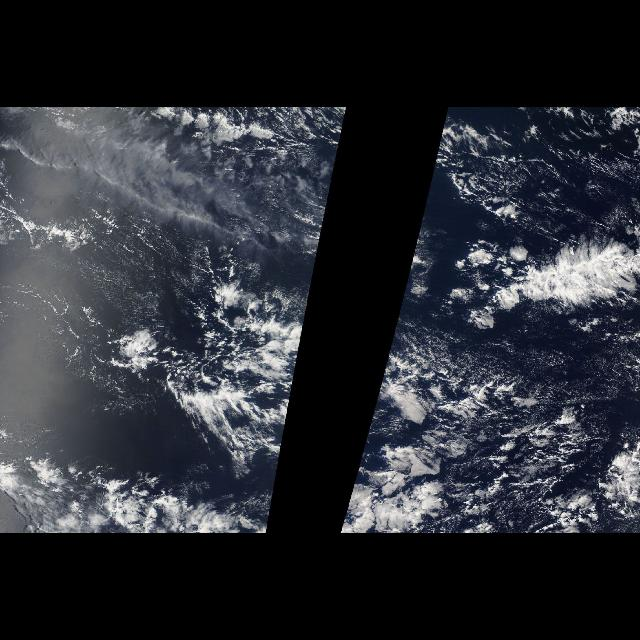Fish: (96, 275, 314, 475), (468, 219, 640, 339)
Gravel: (439, 360, 599, 532)
Sugar: (12, 228, 216, 338)
